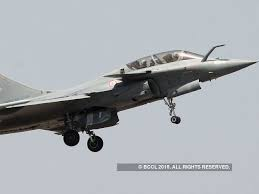fighter: (1, 36, 259, 153)
